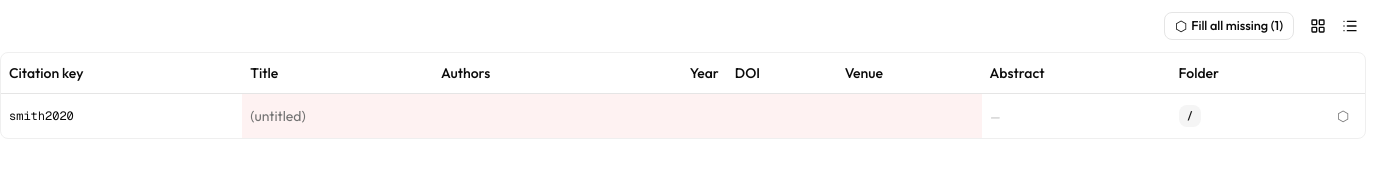
Scenario: ReferencesView › toggles to grid view
Expected: the table is shown, [1, 53, 1365, 138]
What coordinates should you click on to do the following:
click the button with test id "refs-view-grid"
I would click on:
 (1318, 26)
Its box is [1302, 18, 1334, 34].
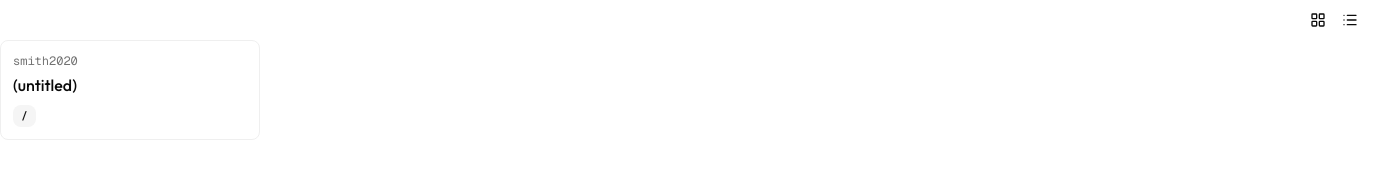
Result: the table is gone
